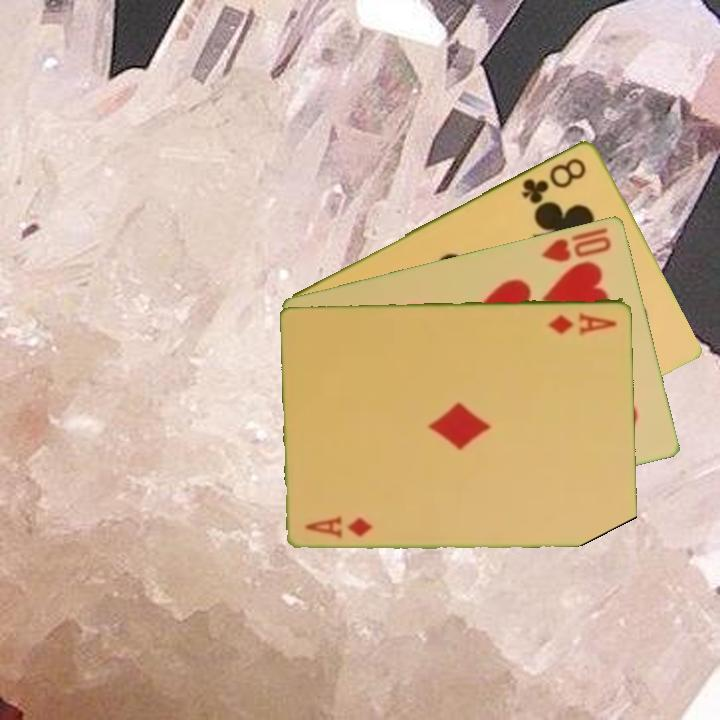10h: (538, 224, 615, 265)
8c: (518, 153, 589, 206)
Ad: (544, 308, 621, 337), (302, 513, 376, 540)
